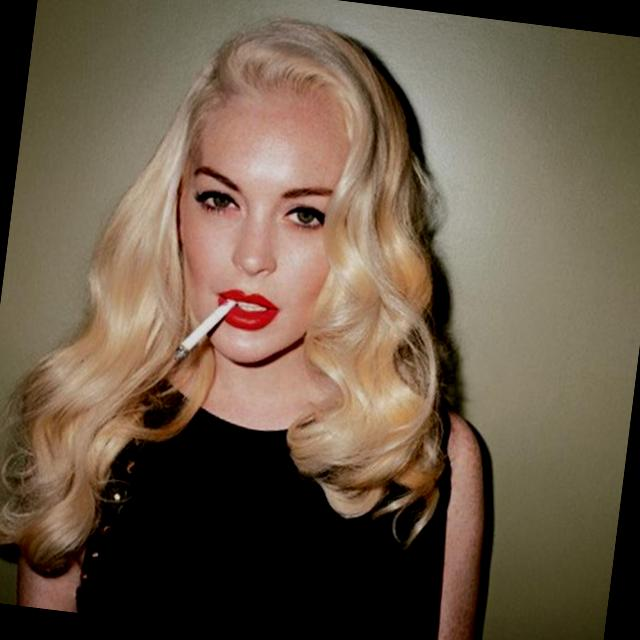smoke: (164, 279, 243, 379)
